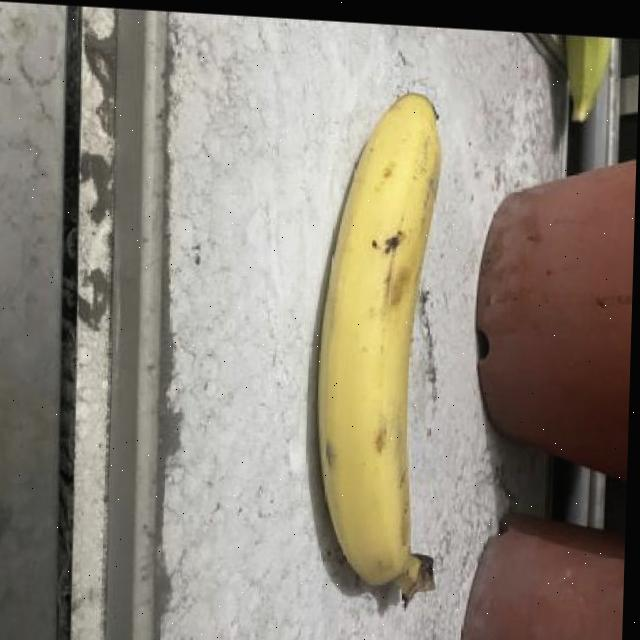banana: (305, 82, 459, 616)
